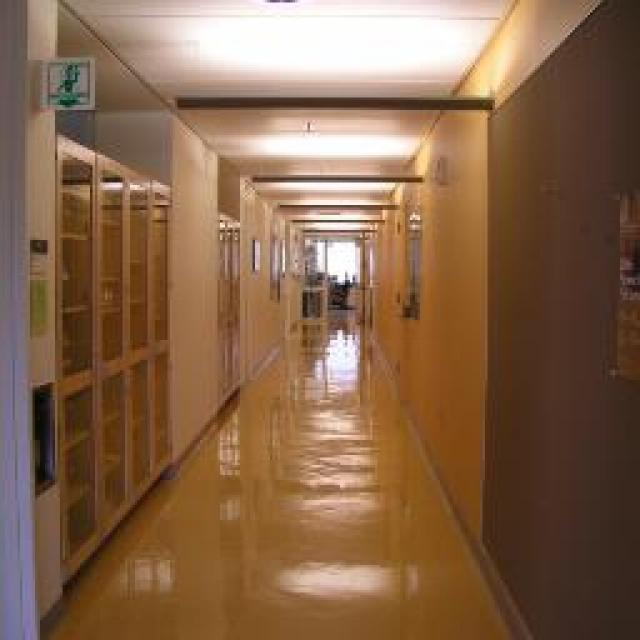cabinets: (55, 125, 168, 592), (215, 208, 238, 412)
ceiling beam: (60, 0, 512, 238), (55, 5, 170, 110)
floor -X: (42, 322, 510, 640)
glass doors: (298, 240, 365, 320)
light fixture: (168, 85, 490, 120), (250, 168, 420, 185)
object: (395, 198, 425, 320), (32, 378, 55, 502), (265, 230, 282, 305)
sign: (38, 52, 95, 115)
wall clock: (368, 2, 640, 640), (92, 110, 218, 462), (2, 0, 65, 638), (238, 178, 298, 375)
